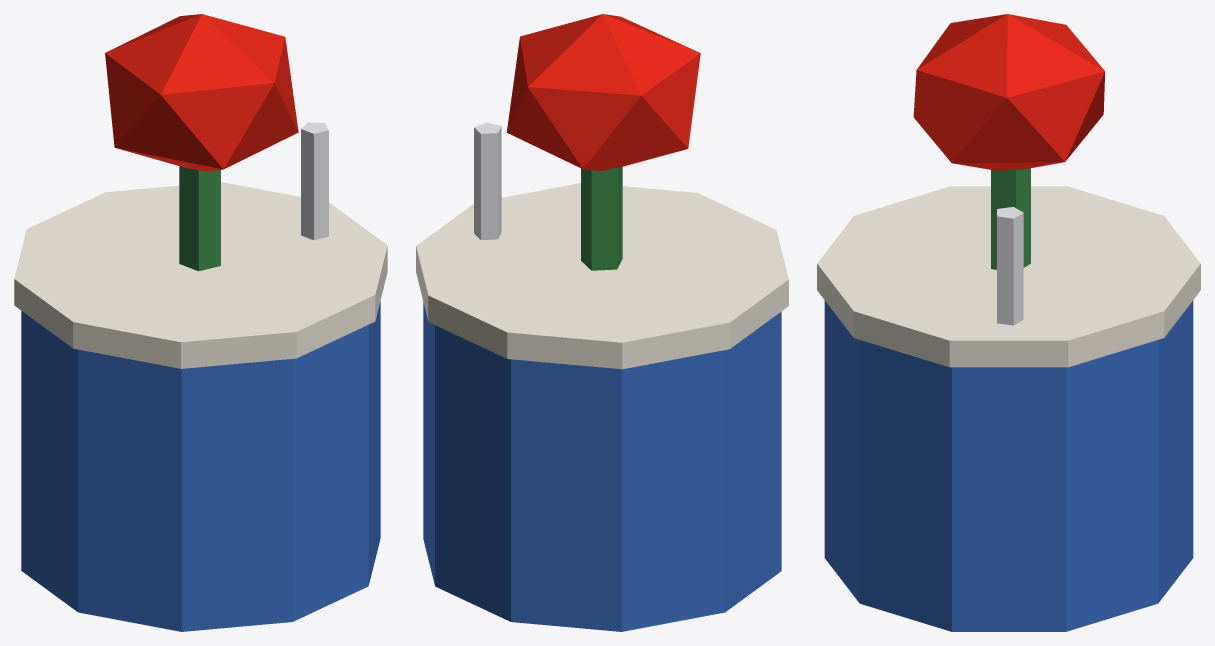
The model's file is hydro_dwc_bucket.glb.
3 views of the same model, side by side, from view 1: azimuth 30°, elevation 25°; view 2: azimuth 150°, elevation 25°; view 3: azimuth 270°, elevation 25° (orthographic).
Visible parts, largest first — view 1: dwc_bucket; view 2: dwc_bucket; view 3: dwc_bucket.
Boxes of the visible parts, <box> form: dwc_bucket: <box>14,14,387,631</box>; dwc_bucket: <box>416,14,788,631</box>; dwc_bucket: <box>817,14,1200,631</box>.
Size of the model in its own units: 0.4945 by 0.8135 by 0.52.
